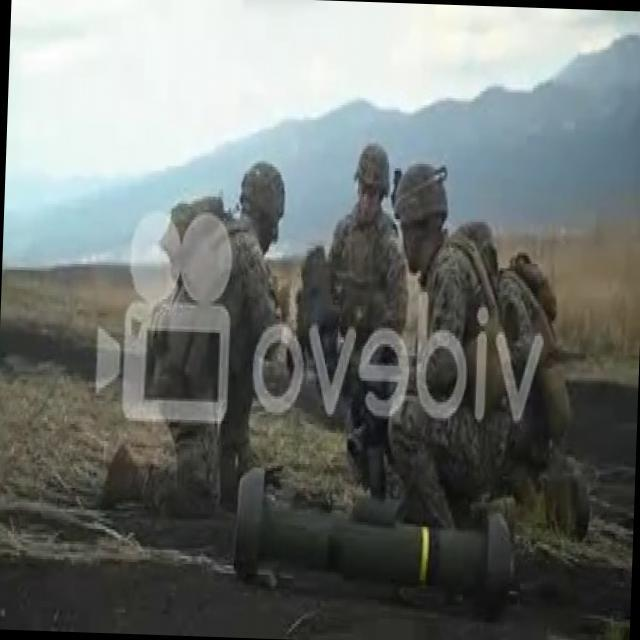rocket: (234, 465, 517, 616)
